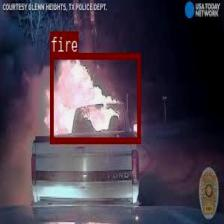fire: (50, 52, 140, 142)
